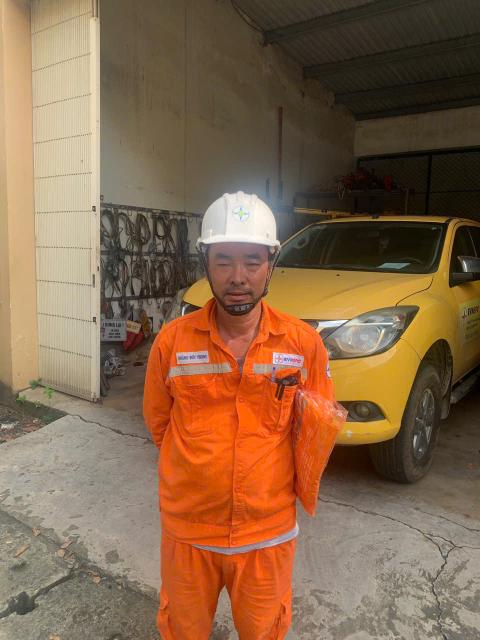helmet: (190, 185, 286, 244)
